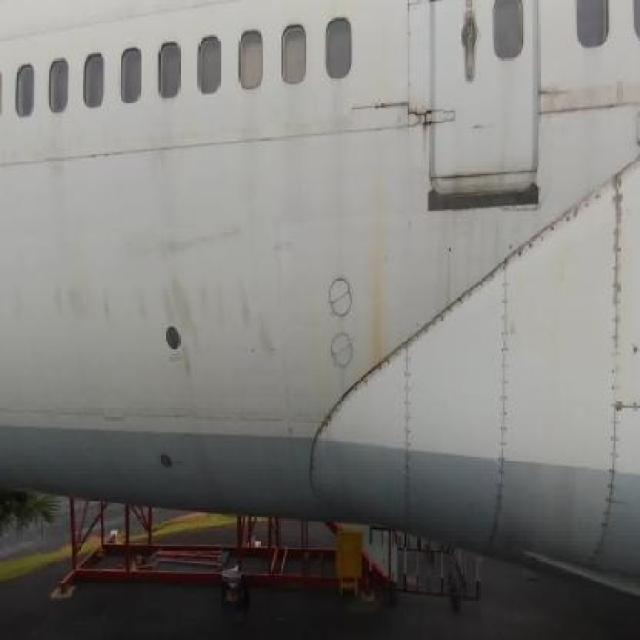Missing-Rivet: (605, 156, 629, 539), (515, 193, 602, 269), (493, 242, 513, 546), (412, 278, 490, 353), (323, 349, 402, 422), (402, 337, 413, 501)
Rust: (358, 166, 402, 380), (408, 92, 448, 163)
Scartch: (18, 273, 307, 416), (111, 198, 262, 274), (538, 71, 640, 135), (267, 220, 301, 275)
